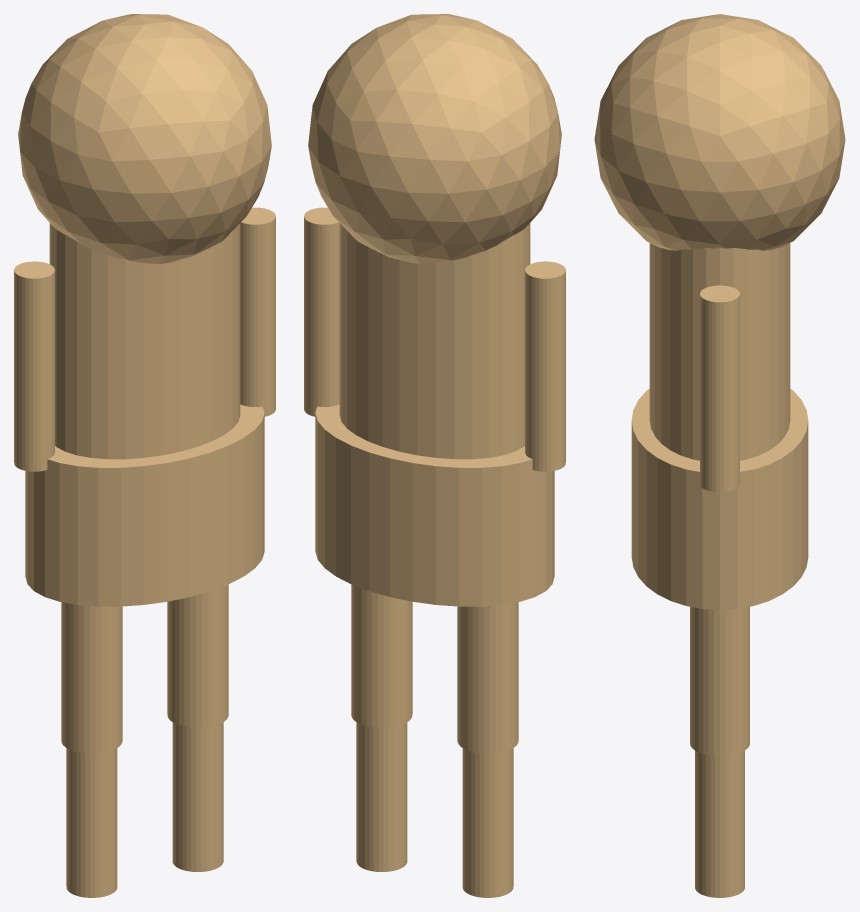
3 renders of one model, left to right at view 1: azimuth 30°, elevation 25°; view 2: azimuth 150°, elevation 25°; view 3: azimuth 270°, elevation 25°, orthographic.
Parts seen in each view (by area): view 1: Torso; view 2: Torso; view 3: Torso.
Boxes of the visible parts, x1,y1,x2,y2 form: Torso: [14, 14, 275, 897]; Torso: [304, 14, 565, 897]; Torso: [594, 14, 845, 897].
Bounding box in the file's own units: 0.58 × 1.84 × 0.5.
